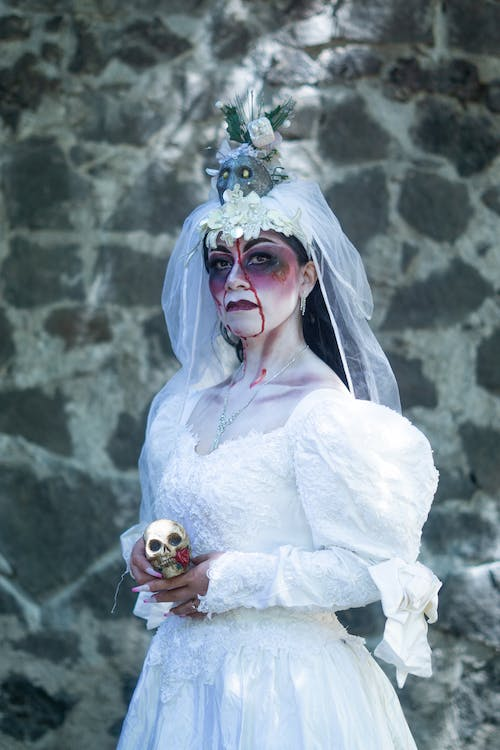blood: (206, 226, 300, 389)
